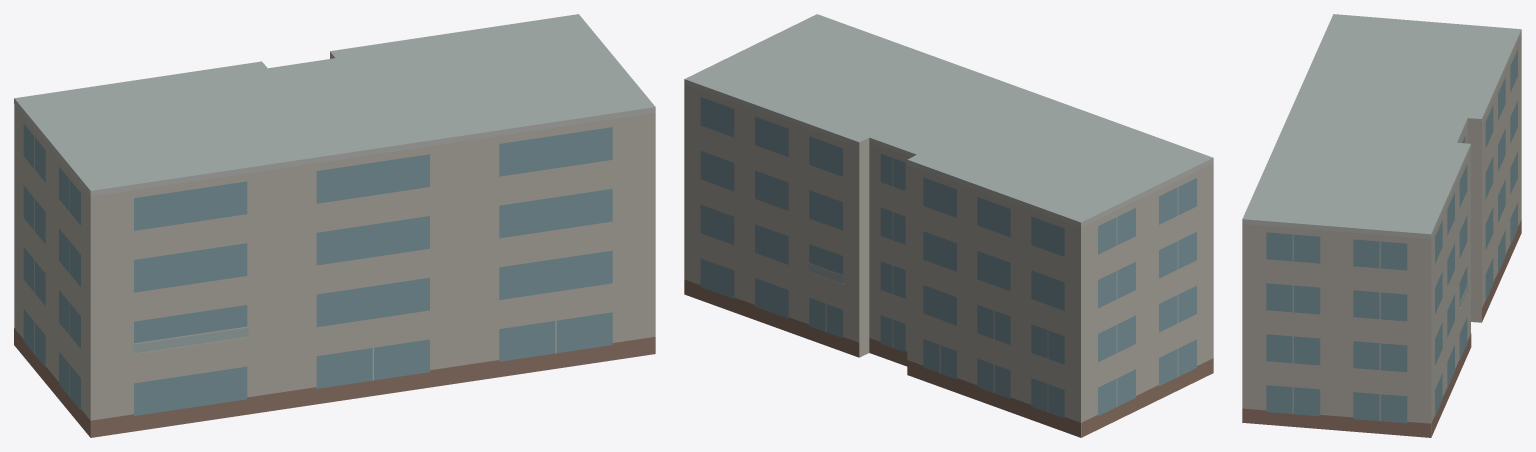
Rendered from survey-upis-33003856.glb.
3 views of the same model, side by side, from view 1: azimuth 30°, elevation 25°; view 2: azimuth 150°, elevation 25°; view 3: azimuth 270°, elevation 25° (orthographic). The views are drawn at different scales.
Parts seen in each view (by area): view 1: survey-upis-33003856.tmp; view 2: survey-upis-33003856.tmp; view 3: survey-upis-33003856.tmp.
Boxes of the visible parts, x1=… form: survey-upis-33003856.tmp: x1=14, y1=14, x2=655, y2=437; survey-upis-33003856.tmp: x1=684, y1=14, x2=1213, y2=437; survey-upis-33003856.tmp: x1=1242, y1=14, x2=1521, y2=437.
Bounding box in the file's own units: 24.37 × 10.5 × 13.07.
